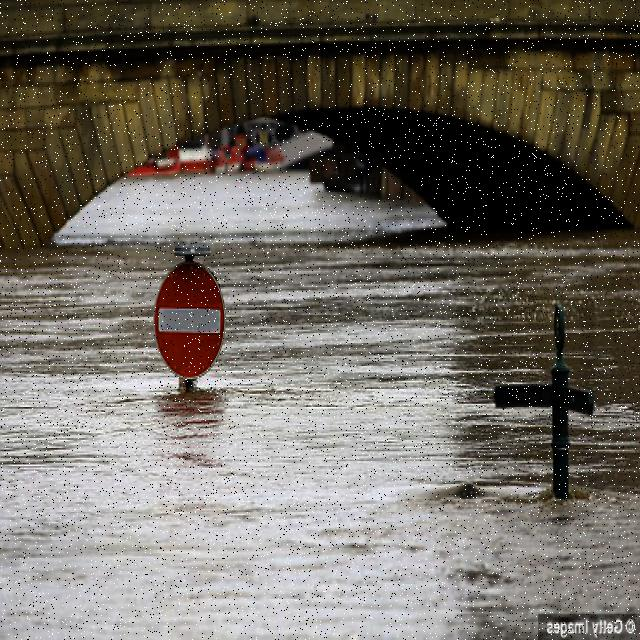no entry: (157, 262, 225, 378)
